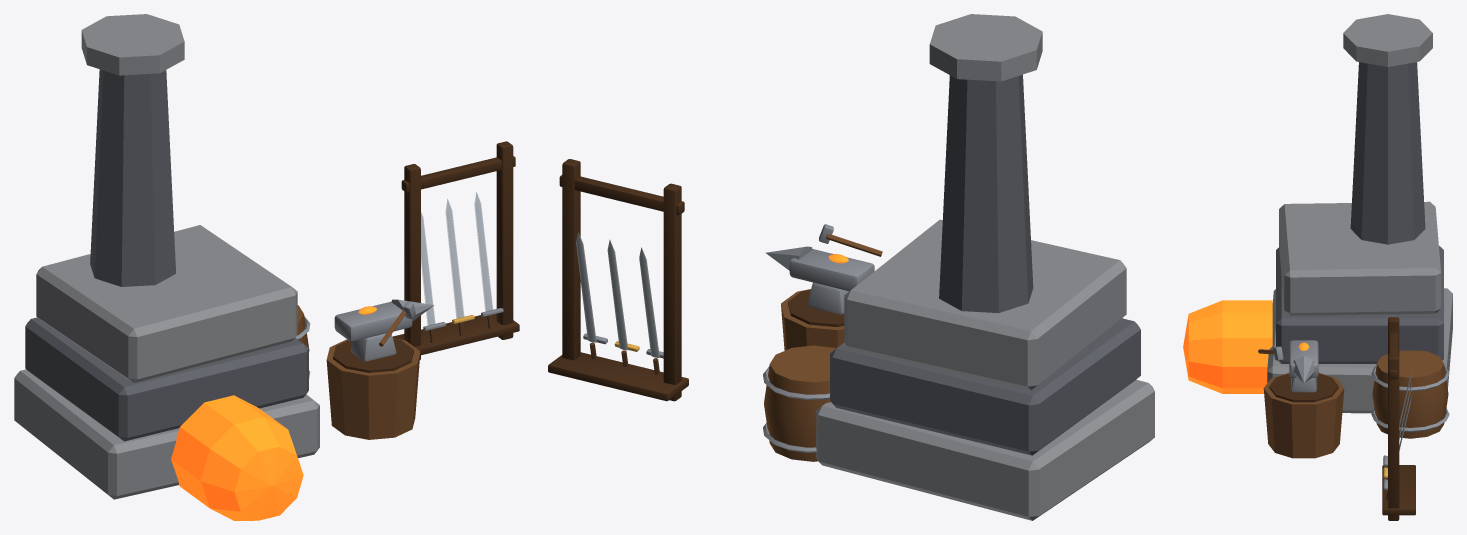
The model's file is forge.glb.
The picture shows the model from 3 angles, left to right: view 1: azimuth 30°, elevation 25°; view 2: azimuth 150°, elevation 25°; view 3: azimuth 270°, elevation 25°; orthographic projection. The views are drawn at different scales.
Visible parts, largest first — view 1: forge; view 2: forge; view 3: forge.
Boxes of the visible parts, x1,y1,x2,y2 form: forge: (14, 14, 519, 520); forge: (548, 14, 1154, 520); forge: (1183, 14, 1452, 520).
Bounding box in the file's own units: 4.1 × 3.42 × 2.41.
